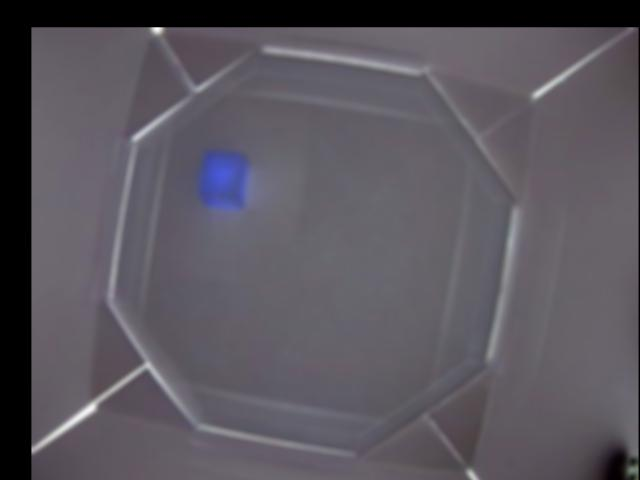Potato: (201, 154, 249, 211)
